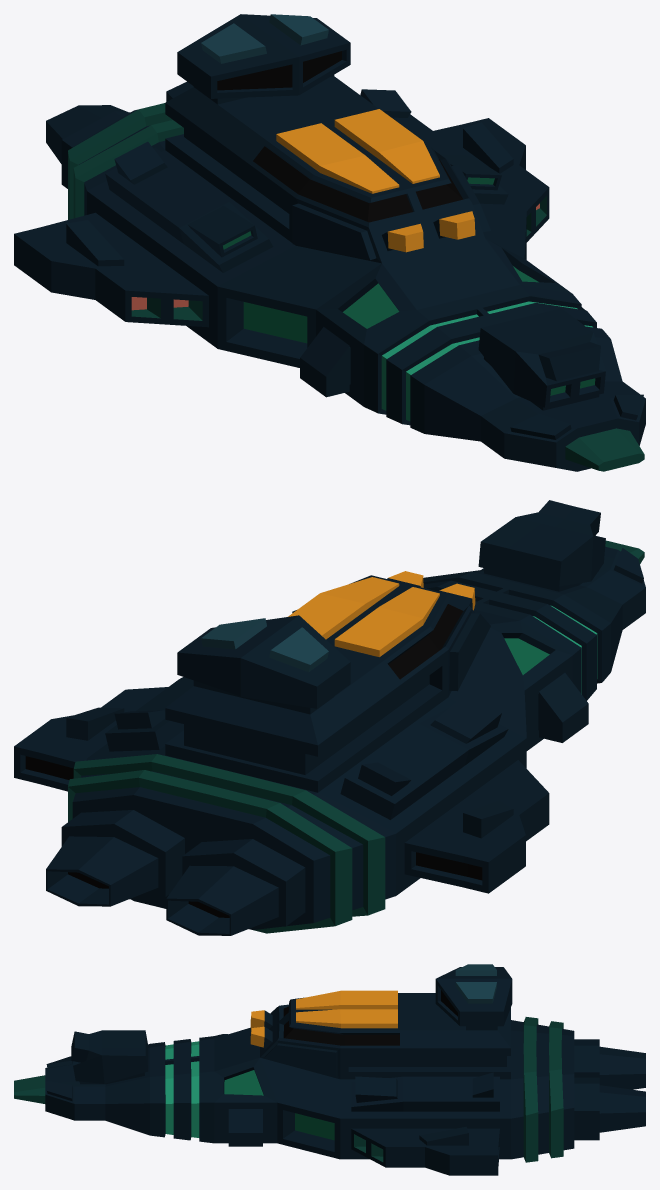
File: Destroyer.glb
3 renders of one model, top to bottom at view 1: azimuth 30°, elevation 25°; view 2: azimuth 150°, elevation 25°; view 3: azimuth 270°, elevation 25°, orthographic. The views are drawn at different scales.
Visible parts, largest first — view 1: Destroyer; view 2: Destroyer; view 3: Destroyer.
Part boxes in pixels (bbox=[...]): Destroyer: bbox=[14, 14, 645, 471]; Destroyer: bbox=[14, 500, 645, 935]; Destroyer: bbox=[14, 964, 645, 1175].
Bounding box in the file's own units: 24.55 × 11.66 × 43.27.
1 material, 1 textured.
